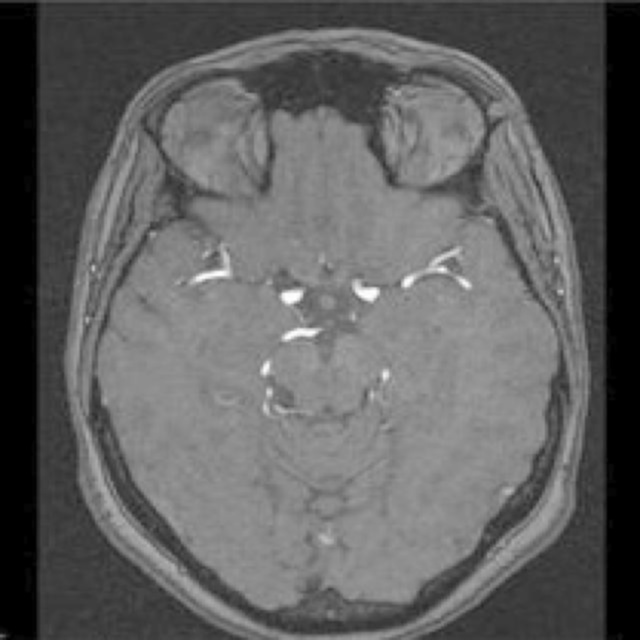glioma tumor: (159, 107, 512, 569)
